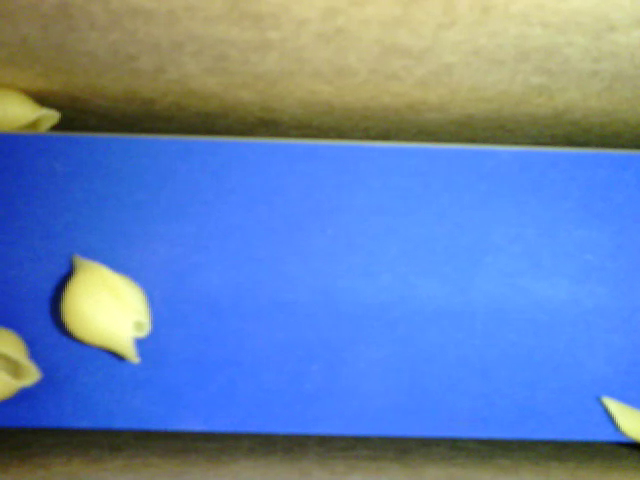elbow: (106, 267, 152, 339)
penne: (604, 393, 639, 446)
shell: (59, 253, 141, 366), (1, 324, 46, 405), (1, 86, 63, 136)
